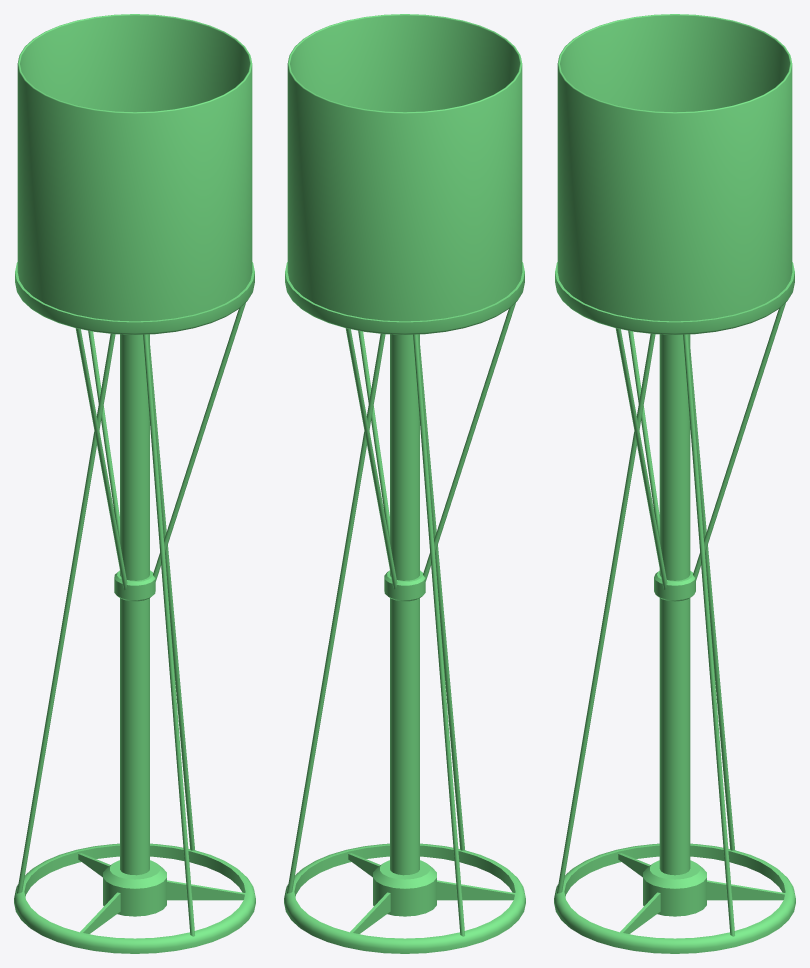
File: Standing_lamp.fbx
3 renders of one model, left to right at view 1: azimuth 30°, elevation 25°; view 2: azimuth 150°, elevation 25°; view 3: azimuth 270°, elevation 25°, orthographic.
Parts seen in each view (by area): view 1: Standing_lamp; view 2: Standing_lamp; view 3: Standing_lamp.
Part boxes in pixels (<box>): Standing_lamp: <box>14,14,255,953</box>; Standing_lamp: <box>284,14,525,953</box>; Standing_lamp: <box>554,14,795,953</box>.
Bounding box in the file's own units: 48.12 × 184 × 48.12.
